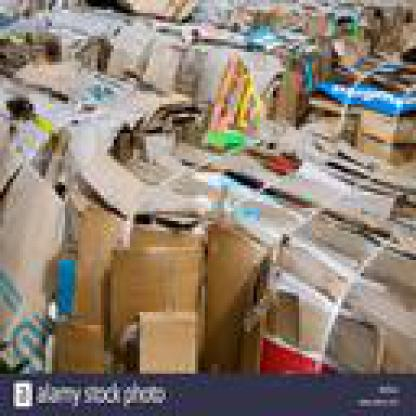CARDBOARD: (0, 0, 413, 367), (130, 150, 413, 370), (69, 195, 264, 371), (172, 143, 413, 250), (104, 13, 309, 127), (0, 72, 130, 212), (0, 123, 72, 367), (218, 0, 412, 88), (0, 55, 192, 143), (198, 127, 413, 205), (104, 247, 202, 367), (247, 114, 413, 182), (0, 6, 124, 68), (49, 254, 107, 367), (296, 94, 410, 143), (110, 120, 198, 179), (72, 146, 150, 212), (318, 56, 413, 110), (130, 306, 198, 370), (87, 0, 202, 20), (0, 0, 81, 20)
